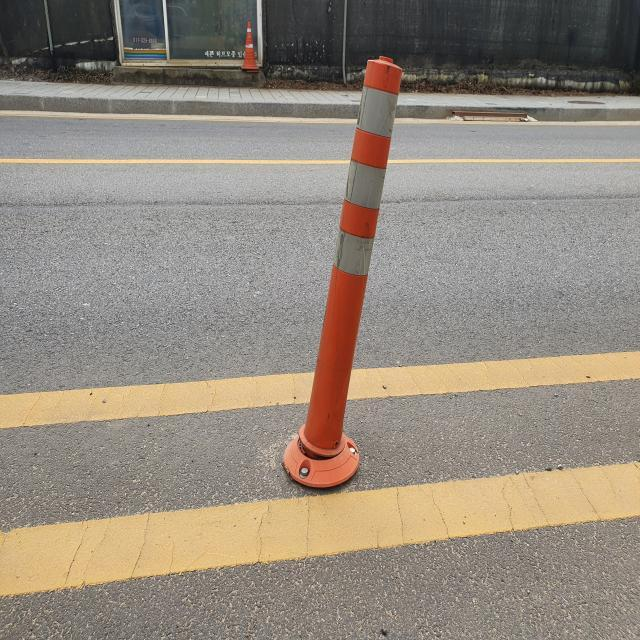pole: (292, 51, 404, 494)
